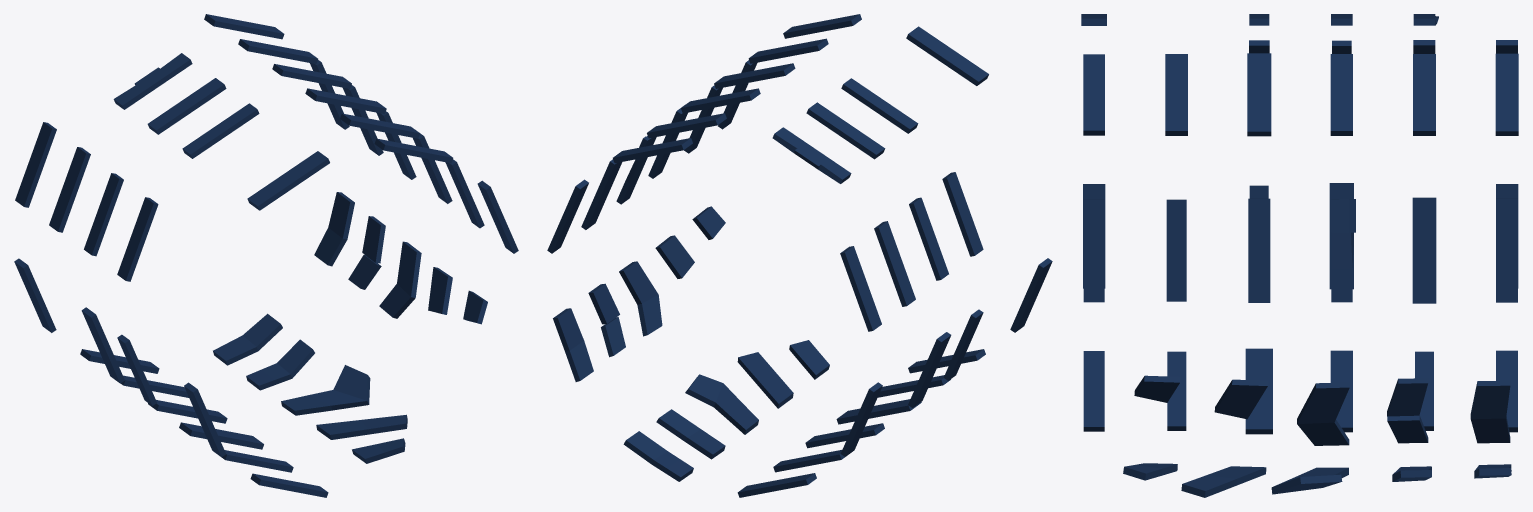
File: tower_windows.obj
The picture shows the model from 3 angles, left to right: view 1: azimuth 30°, elevation 25°; view 2: azimuth 150°, elevation 25°; view 3: azimuth 270°, elevation 25°; orthographic projection. The views are drawn at different scales.
Visible parts, largest first — view 1: Cylinder_win; view 2: Cylinder_win; view 3: Cylinder_win.
Part boxes in pixels (x1=…): Cylinder_win: x1=14, y1=14, x2=518, y2=497; Cylinder_win: x1=547, y1=14, x2=1052, y2=497; Cylinder_win: x1=1081, y1=14, x2=1518, y2=497.
Size of the model in its own units: 0.637 by 0.6387 by 0.605.
